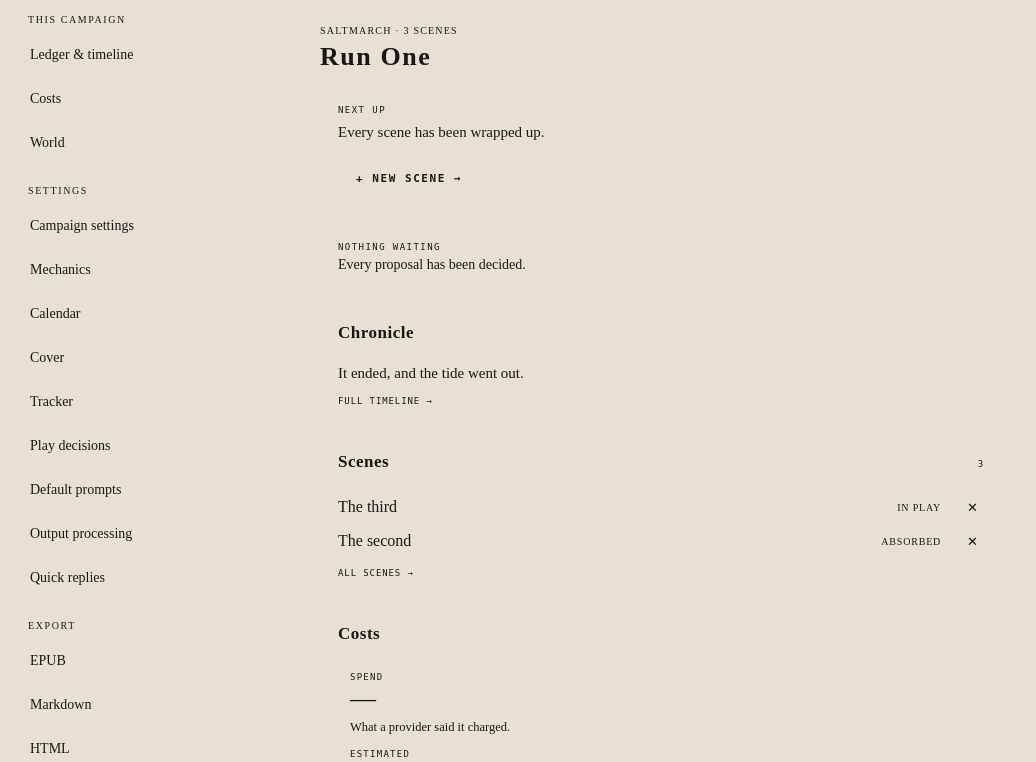
Scenario: Default prompts is a reachable campaign Settings panel, with live world preview
Click the button "Default prompts". click: (76, 489)
box: [12, 468, 286, 512]
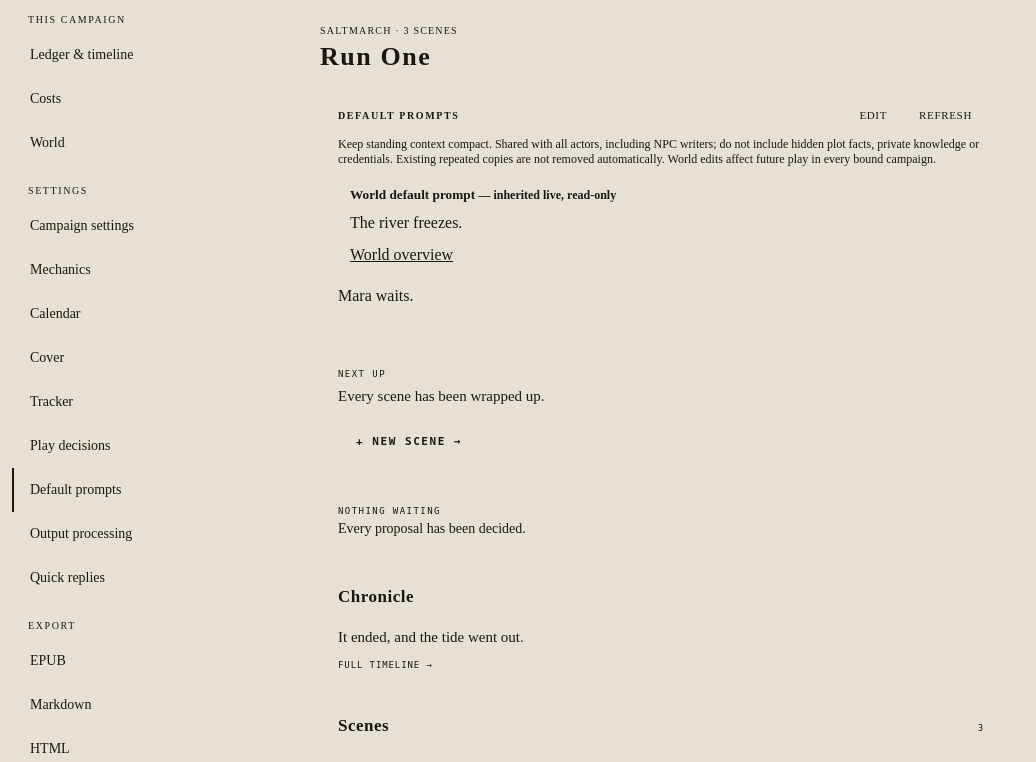
Now the text "Mara waits." is shown, box [338, 287, 414, 304]
Now the text "The river freezes." is shown, box [350, 214, 462, 231]
